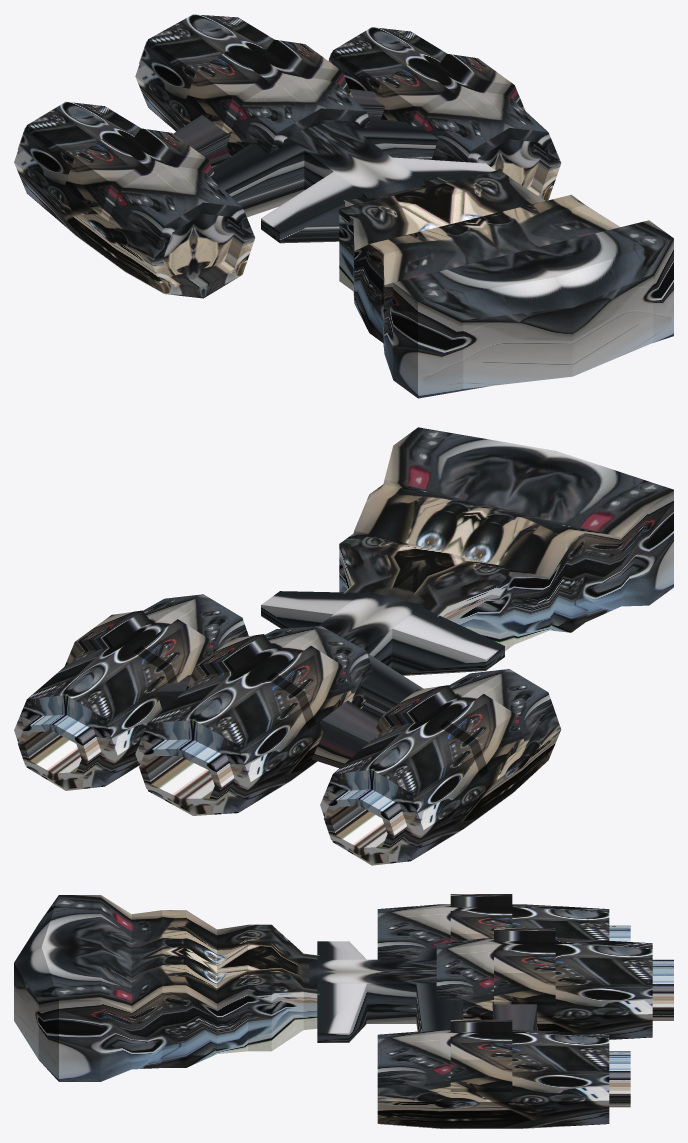
File: m4-ship2.obj
3 renders of one model, top to bottom at view 1: azimuth 30°, elevation 25°; view 2: azimuth 150°, elevation 25°; view 3: azimuth 270°, elevation 25°, orthographic. The views are drawn at different scales.
Visible parts, largest first — view 1: M4_Ship_2_Cube.092; view 2: M4_Ship_2_Cube.092; view 3: M4_Ship_2_Cube.092.
Boxes of the visible parts, box(x1,y1,x2,y2) form: M4_Ship_2_Cube.092: box(14, 14, 673, 398); M4_Ship_2_Cube.092: box(14, 427, 673, 865); M4_Ship_2_Cube.092: box(14, 894, 673, 1128).
Size of the model in its own units: 26.35 by 8.61 by 42.16.
